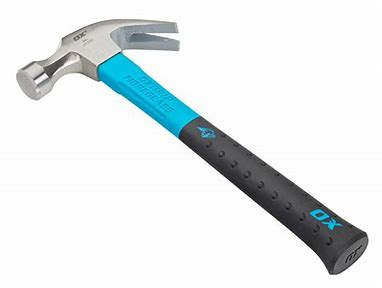martillu: (13, 16, 378, 274)
